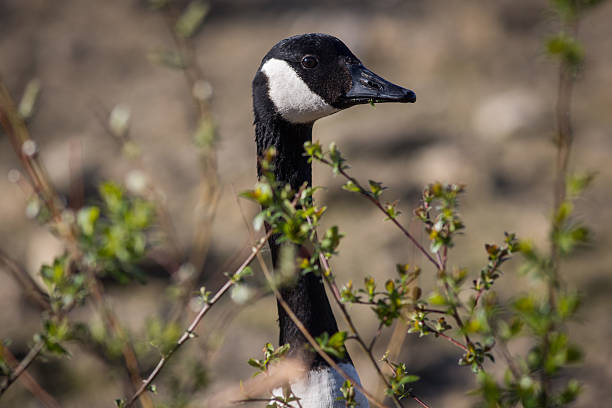goose: (169, 29, 429, 408)
